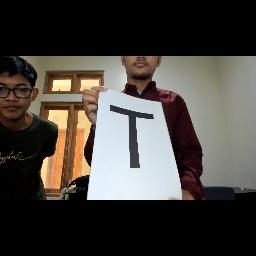t: (108, 102, 158, 172)
